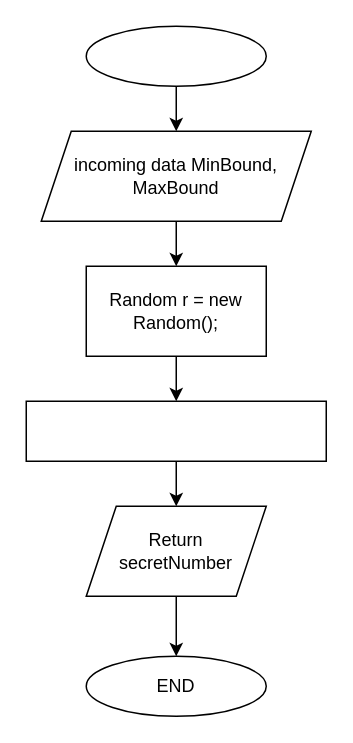
Image size: 353x743. Some labels were removed from this diagram. The centre of each missing label's shape, as x and y in pixels:
secretNumber = r . Next (MinBound , MaxBound);: the point at 175,430
START: the point at 175,55
